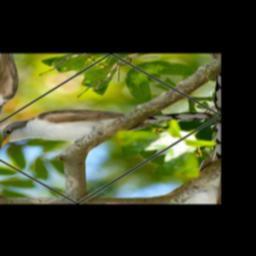Cuckoo: (0, 57, 218, 199)
